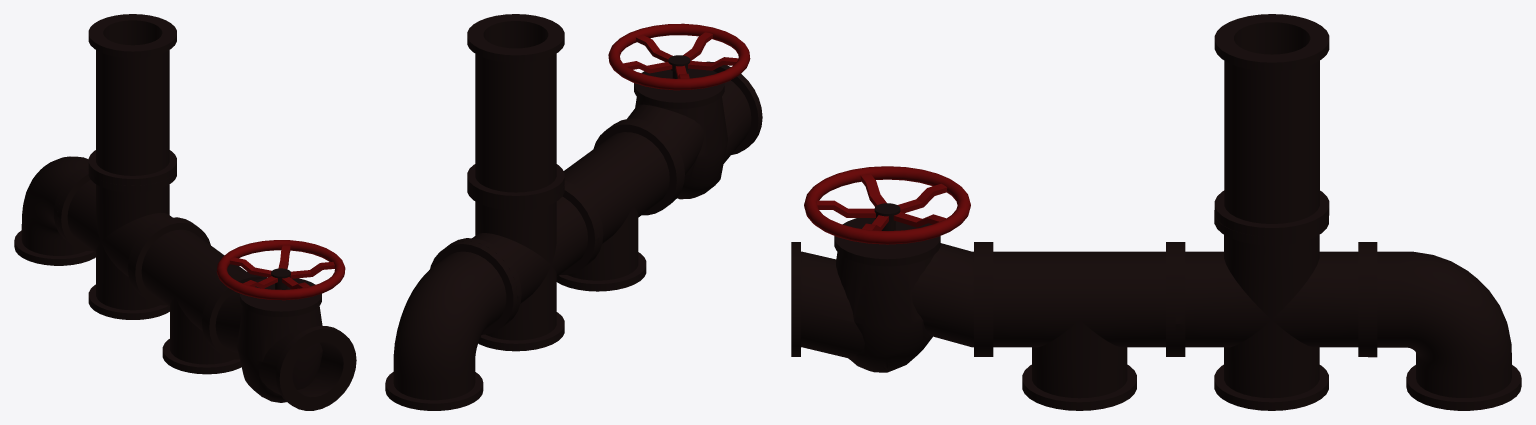
The model's file is tubs.FBX.
3 renders of one model, left to right at view 1: azimuth 30°, elevation 25°; view 2: azimuth 150°, elevation 25°; view 3: azimuth 270°, elevation 25°, orthographic. The views are drawn at different scales.
Visible parts, largest first — view 1: Cylinder012, Cylinder009, Cylinder007, Cylinder008, Tube005, Circle002; view 2: Cylinder009, Tube005, Cylinder007, Cylinder008, Cylinder012, Circle002; view 3: Cylinder007, Cylinder008, Cylinder012, Cylinder009, Tube005, Circle002.
Part boxes in pixels (left/top/right/bottom): Cylinder012: left=205, top=268, right=356, bottom=410; Cylinder009: left=88, top=14, right=176, bottom=185; Cylinder007: left=57, top=169, right=194, bottom=319; Cylinder008: left=131, top=220, right=266, bottom=374; Tube005: left=14, top=156, right=95, bottom=265; Circle002: left=216, top=240, right=345, bottom=300; Cylinder009: left=467, top=14, right=564, bottom=203; Tube005: left=385, top=241, right=517, bottom=410; Cylinder007: left=445, top=185, right=599, bottom=351; Cylinder008: left=556, top=121, right=680, bottom=291; Cylinder012: left=611, top=55, right=762, bottom=205; Circle002: left=608, top=23, right=750, bottom=90; Cylinder007: left=1175, top=210, right=1367, bottom=410; Cylinder008: left=983, top=242, right=1175, bottom=410; Cylinder012: left=791, top=203, right=983, bottom=372; Cylinder009: left=1214, top=14, right=1329, bottom=236; Tube005: left=1368, top=242, right=1521, bottom=410; Circle002: left=804, top=166, right=970, bottom=244.
Size of the model in its own units: 87.05 by 200 by 380.
